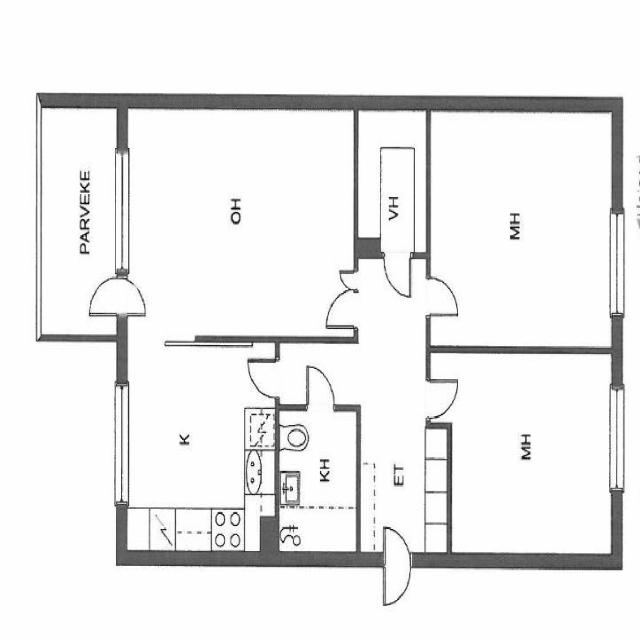door: (383, 513, 411, 566), (383, 552, 411, 605), (116, 278, 154, 315), (90, 278, 126, 315), (426, 379, 458, 418), (327, 290, 359, 328), (425, 278, 457, 316), (384, 250, 410, 296), (307, 368, 334, 412), (250, 361, 280, 396), (339, 270, 358, 289)
